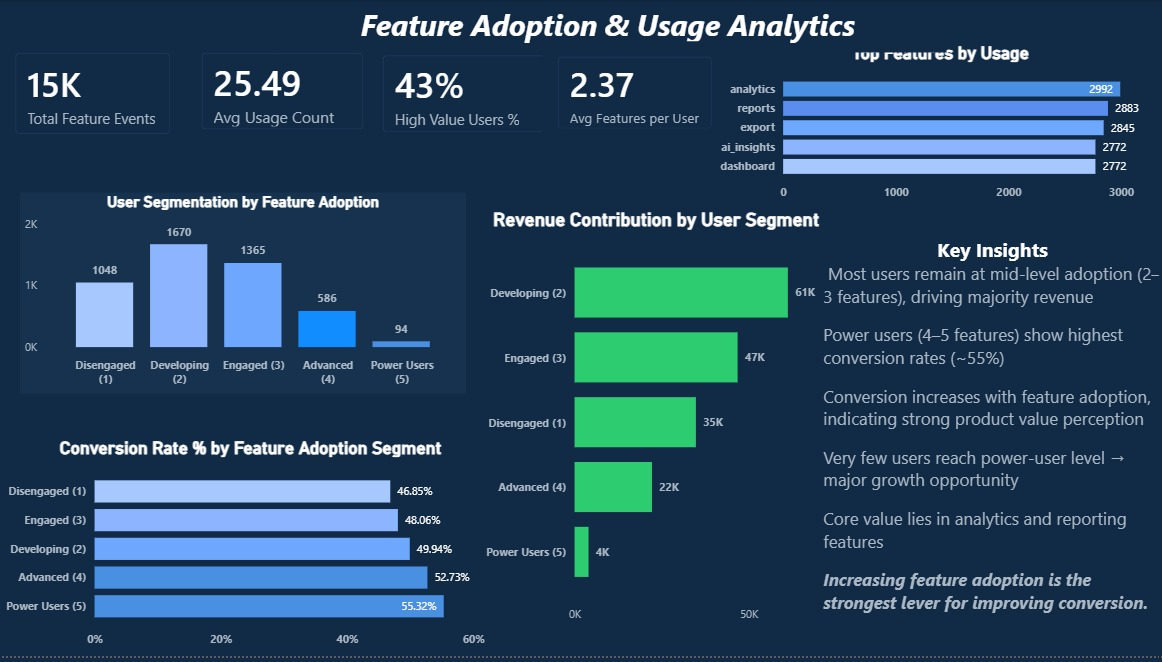

The dashboard page shown, as its layout file describes it:
{"tool":"powerbi","page":{"name":"Page 3","canvas":[1280,720],"ordinal":2},"visuals":[{"type":"cardVisual","fields":{"Data":["feature_usage_2026.Total Feature Events"]},"box":[0,41.2,204.5,123.5],"z":0},{"type":"cardVisual","fields":{"Data":["Avg(feature_usage_2026.usage_count)"]},"box":[204.5,41.2,211.3,118],"z":1000},{"type":"cardVisual","fields":{"Data":["feature_usage_2026.High Value Users %"]},"box":[403.4,43.9,218.2,118],"z":2000},{"type":"clusteredBarChart","title":"Top Features by Usage","fields":{"Category":["feature_usage_2026.feature_name"],"Y":["CountNonNull(feature_usage_2026.usage_count)"]},"box":[784.9,46.7,495.4,182.5],"z":3000},{"type":"columnChart","title":"User Segmentation by Feature Adoption","fields":{"Category":["users_2026.Adoption Segment"],"Y":["CountNonNull(users_2026.user_id)"]},"box":[22,211.3,489.9,220.9],"z":4000},{"type":"clusteredBarChart","title":"Conversion Rate % by Feature Adoption Segment","fields":{"Category":["Segment Conversion.Adoption Segment"],"Y":["Sum(Segment Conversion.Conversion %)"]},"box":[0,480.3,550.3,240.1],"z":5000},{"type":"textbox","box":[304.6,0,734.1,57.6],"z":6000},{"type":"clusteredBarChart","title":"Revenue Contribution by User Segment","fields":{"Category":["users_2026.Adoption Segment"],"Y":["Sum(subscriptions_2026.mrr)"]},"box":[526.9,229.2,387,463.8],"z":7000},{"type":"textbox","box":[898.8,253.9,381.5,466.6],"z":8000},{"type":"cardVisual","fields":{"Data":["feature_usage_2026.Avg Features per User"]},"box":[595.5,45.3,203.1,113.9],"z":8001}]}

Visuals, with their boxes in screenshot pixels (x1, y1, x2, y2), scaled from the page's 1280x720 canvas onto the 1162x662 screenshot:
cardVisual - feature_usage_2026.Total Feature Events: Rect(0, 38, 186, 151)
cardVisual - Avg(feature_usage_2026.usage_count): Rect(186, 38, 377, 146)
cardVisual - feature_usage_2026.High Value Users %: Rect(366, 40, 564, 149)
"Top Features by Usage" clusteredBarChart: Rect(713, 43, 1161, 211)
"User Segmentation by Feature Adoption" columnChart: Rect(20, 194, 465, 397)
"Conversion Rate % by Feature Adoption Segment" clusteredBarChart: Rect(0, 442, 500, 661)
textbox: Rect(277, 0, 943, 53)
"Revenue Contribution by User Segment" clusteredBarChart: Rect(478, 211, 830, 637)
textbox: Rect(816, 233, 1161, 661)
cardVisual - feature_usage_2026.Avg Features per User: Rect(541, 42, 725, 146)
